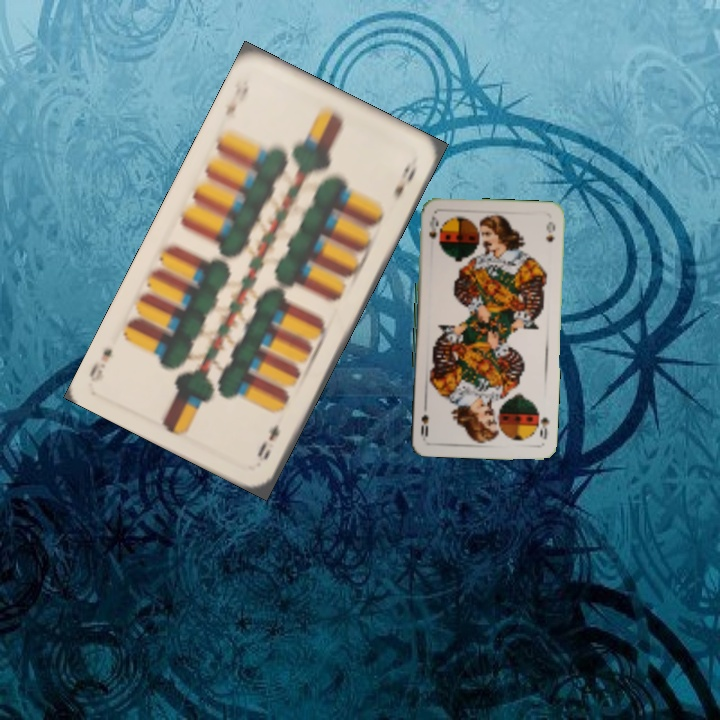E9: (221, 75, 252, 119), (253, 419, 282, 463)
SO: (534, 407, 552, 442), (425, 212, 441, 241)
